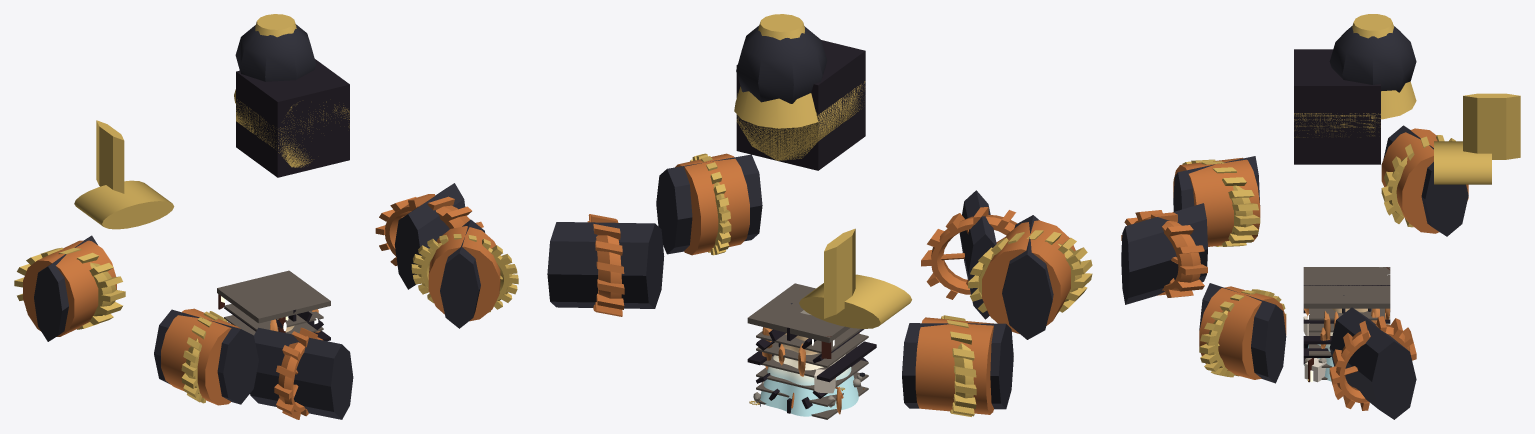
Rendered from ile-horloge-v4.glb.
3 views of the same model, side by side, from view 1: azimuth 30°, elevation 25°; view 2: azimuth 150°, elevation 25°; view 3: azimuth 270°, elevation 25° (orthographic). The views are drawn at different scales.
Parts seen in each view (by area): view 1: horloge_heures, horloge_roue0, horloge_roue4, horloge_roue1, horloge_roue2, horloge_decor, horloge_balancier, horloge_roue3, horloge_cloche; view 2: horloge_roue3, horloge_roue4, horloge_roue0, horloge_roue2, horloge_decor, horloge_cloche, horloge_heures, horloge_balancier, horloge_roue1, horloge_terrain; view 3: horloge_heures, horloge_roue3, horloge_roue2, horloge_roue1, horloge_roue4, horloge_roue0, horloge_decor, horloge_balancier, horloge_cloche.
Part boxes in pixels (x1,y1,x2,y2): horloge_heures: [236, 59, 349, 177]; horloge_roue0: [154, 308, 258, 405]; horloge_roue4: [14, 235, 125, 341]; horloge_roue1: [250, 327, 353, 419]; horloge_roue2: [411, 219, 518, 328]; horloge_decor: [217, 270, 330, 341]; horloge_balancier: [74, 120, 174, 229]; horloge_roue3: [375, 183, 483, 289]; horloge_cloche: [234, 14, 316, 103]; horloge_roue3: [547, 214, 664, 316]; horloge_roue4: [902, 315, 1013, 416]; horloge_roue0: [968, 215, 1092, 339]; horloge_roue2: [656, 153, 762, 255]; horloge_decor: [747, 283, 876, 419]; horloge_cloche: [734, 14, 827, 128]; horloge_heures: [736, 40, 865, 170]; horloge_balancier: [799, 228, 911, 328]; horloge_roue1: [921, 190, 1017, 319]; horloge_terrain: [760, 333, 858, 416]; horloge_heures: [1294, 49, 1380, 164]; horloge_roue3: [1329, 307, 1416, 419]; horloge_roue2: [1199, 283, 1286, 383]; horloge_roue1: [1121, 203, 1207, 304]; horloge_roue4: [1381, 125, 1468, 236]; horloge_roue0: [1173, 156, 1260, 246]; horloge_decor: [1303, 267, 1390, 382]; horloge_balancier: [1434, 93, 1520, 184]; horloge_cloche: [1329, 14, 1416, 119].
Bounding box in the file's own units: 11.3 × 8.87 × 9.2.
